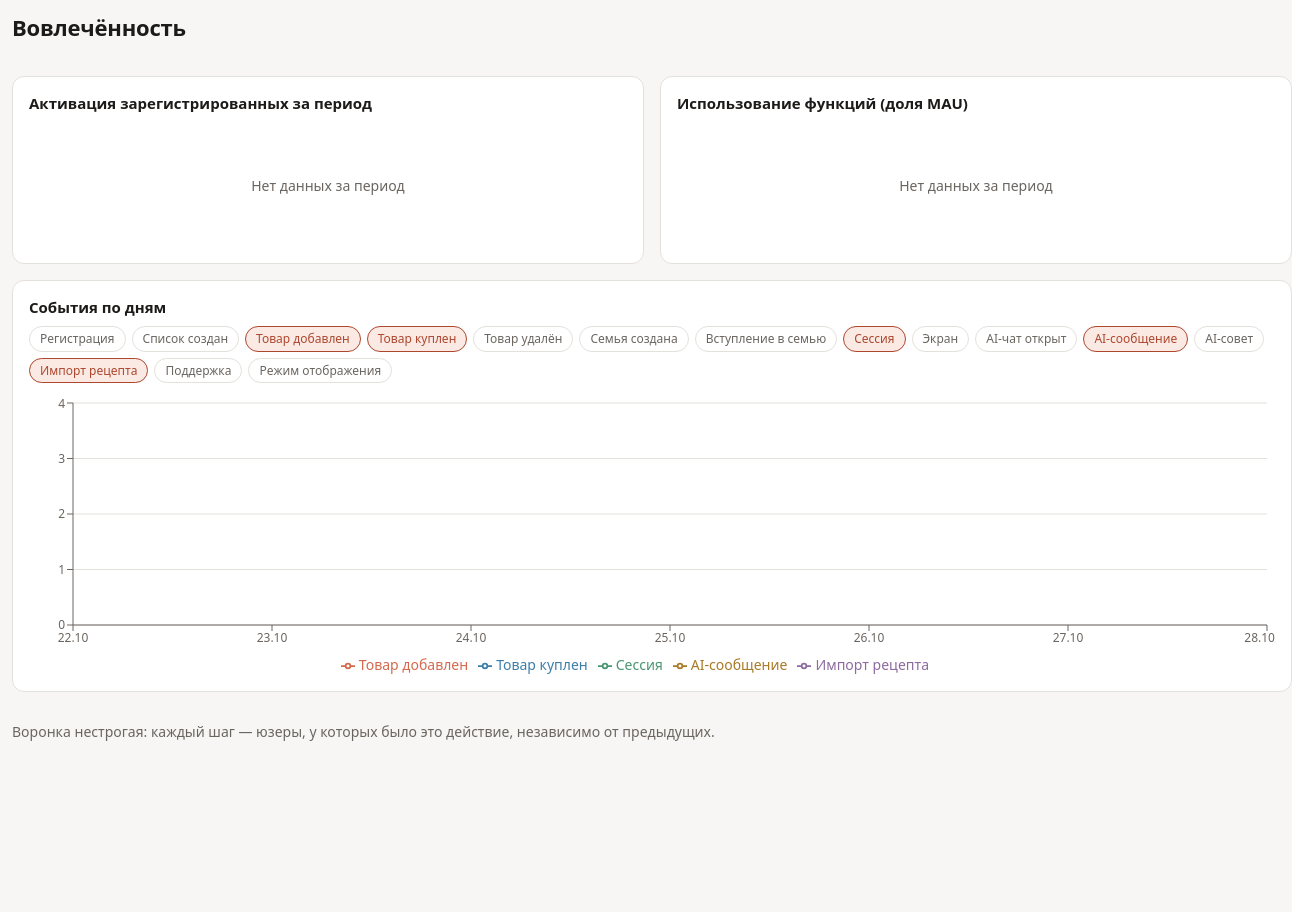
Test case: EngagementPage › asks to pick events when every chip is deselected and does not query with empty names
This screenshot has width=1292, height=912.
Click the button "Товар добавлен".
click(303, 339)  # box [245,326,361,352]
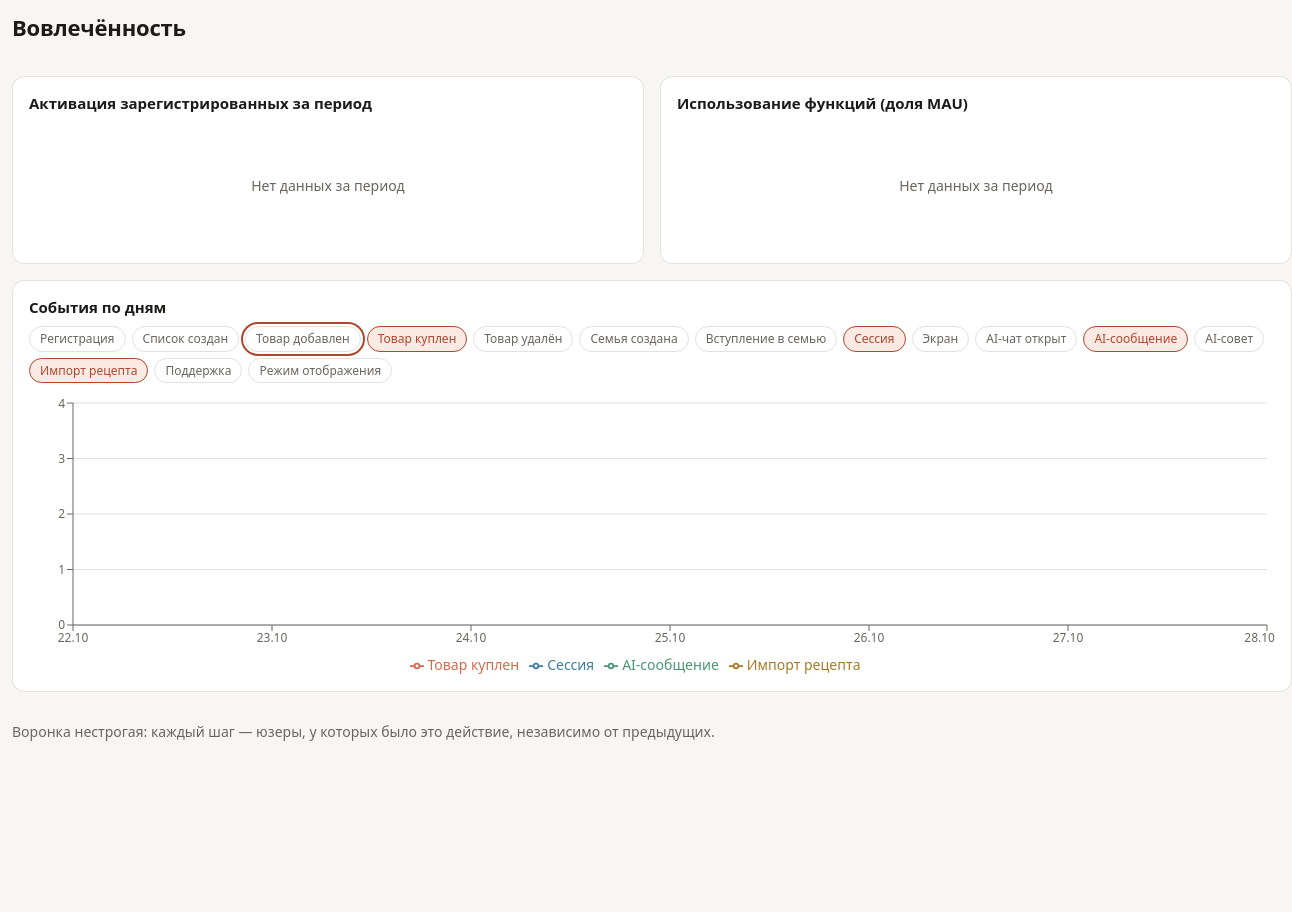
Click the button "Товар куплен".
click(417, 339)  # box [367,326,467,352]
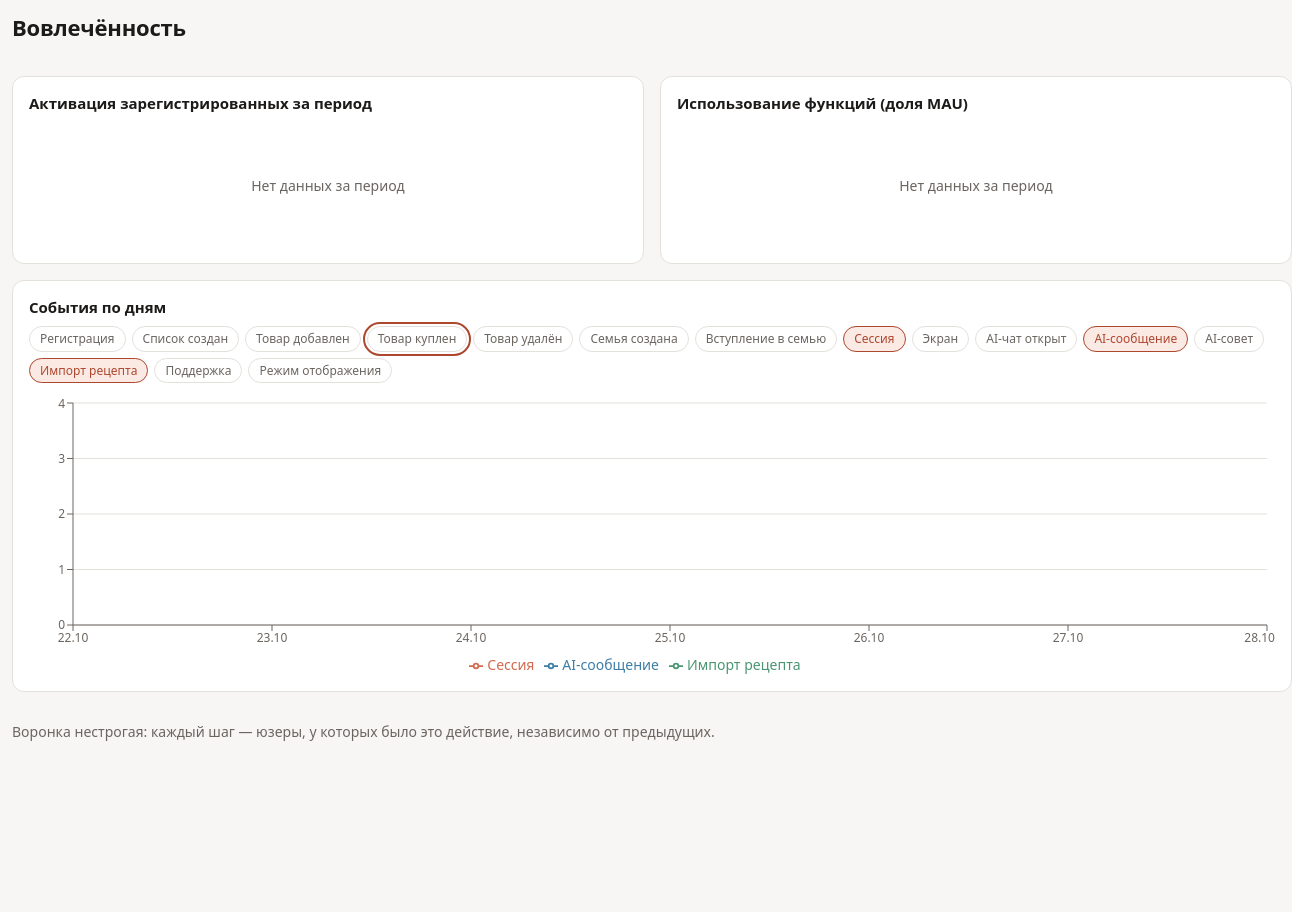
Click the button "Сессия".
click(874, 339)  # box [843,326,906,352]
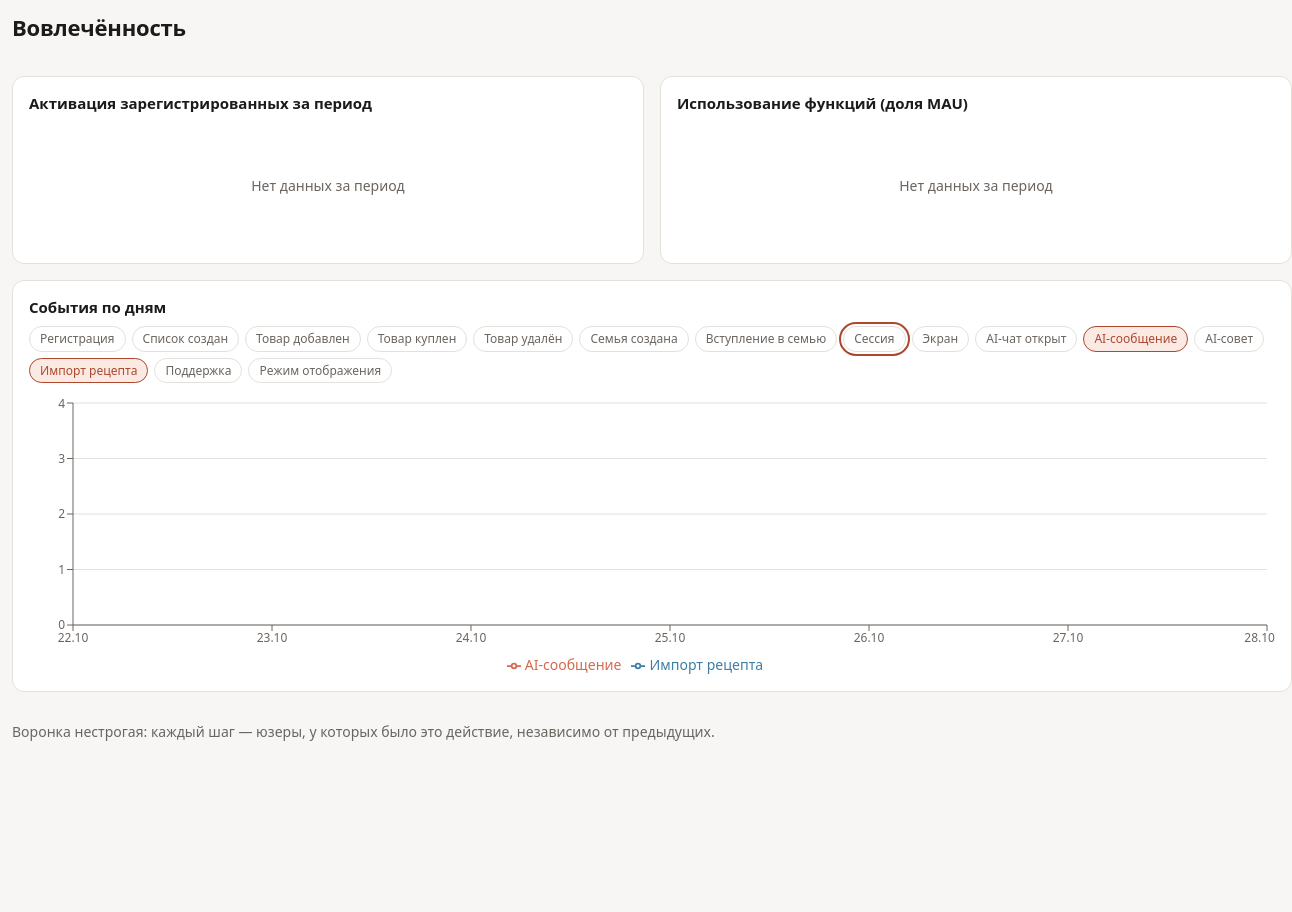
Click the button "AI-сообщение".
click(1136, 339)  # box [1083,326,1188,352]
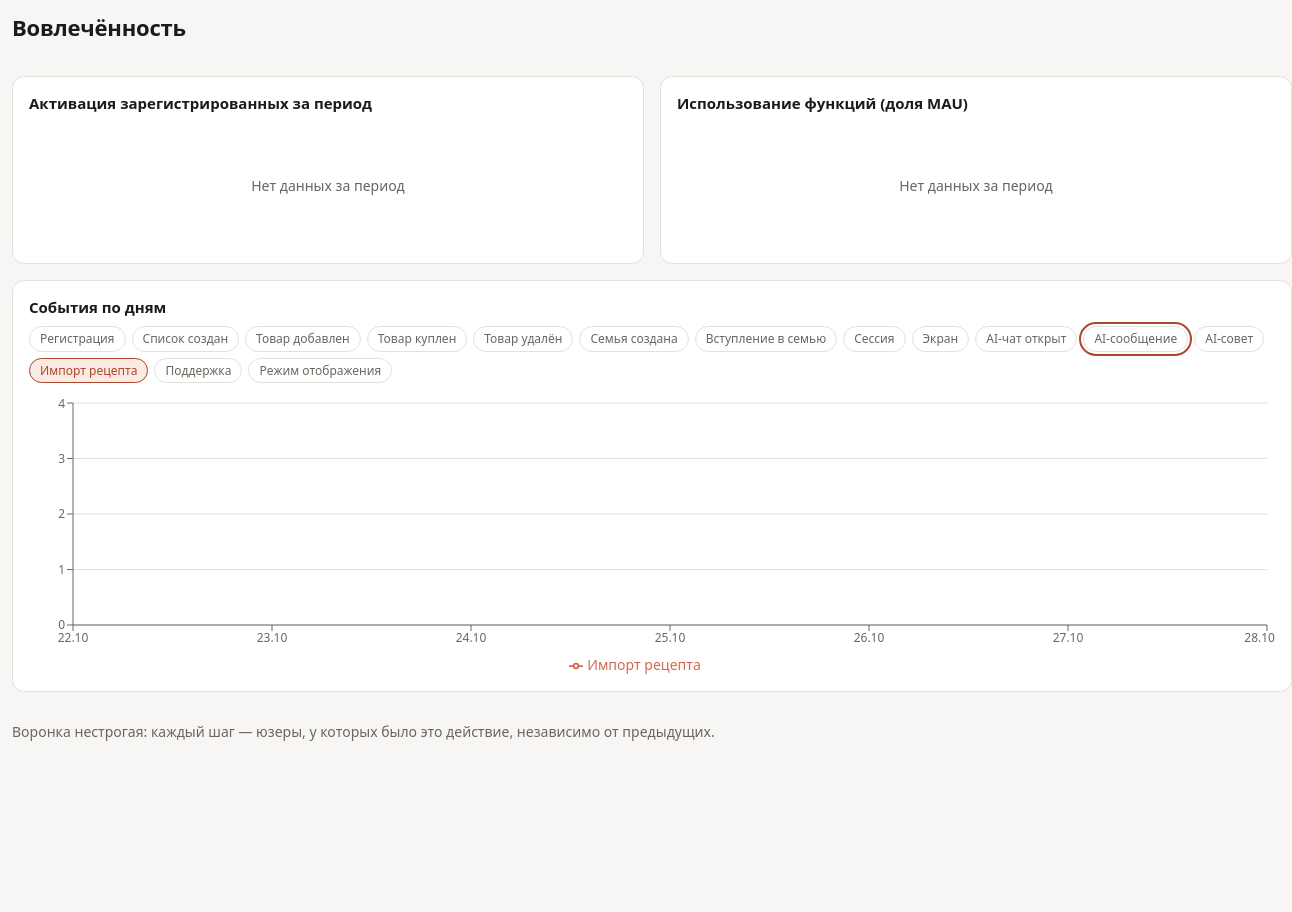
Click the button "Импорт рецепта".
click(89, 370)  # box [29,358,148,383]
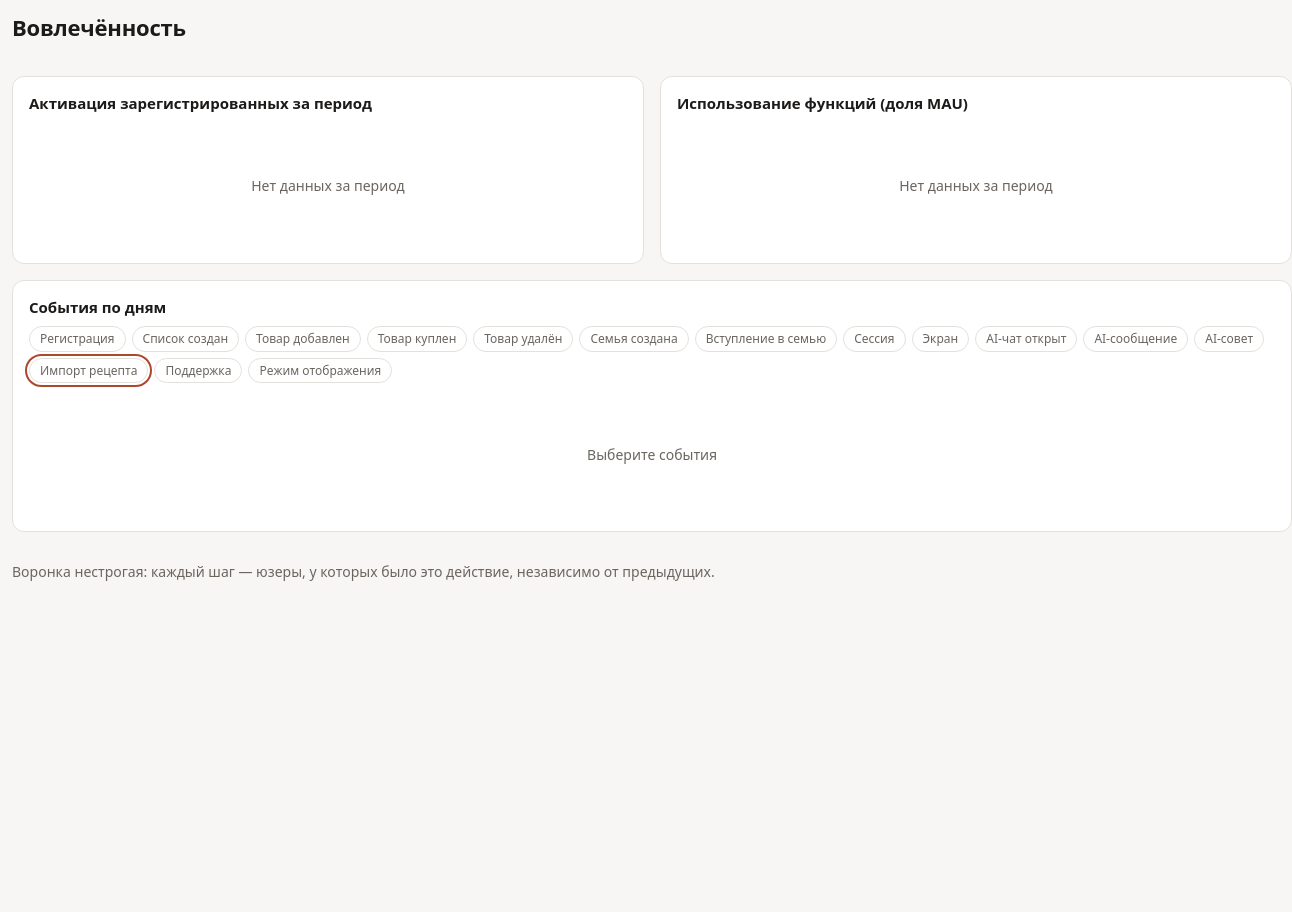
expect the text "Выберите события" is shown: met, box [587,445,717,464]
